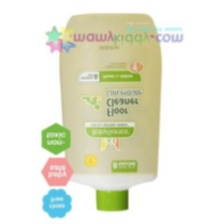cleaning_solution: (53, 7, 168, 215)
